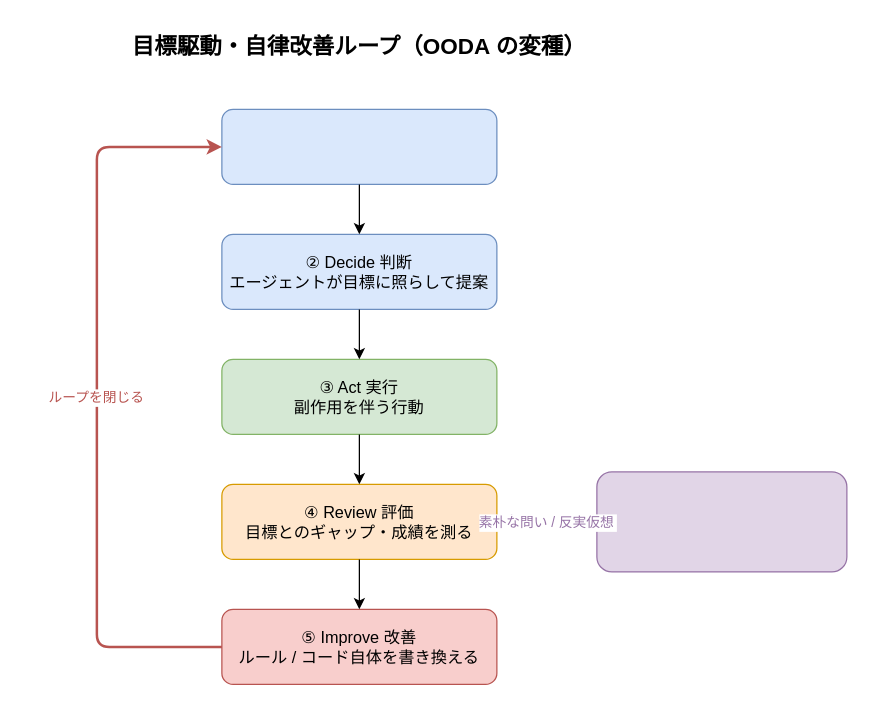
Some shapes in this 869 by 706 pixel diagram are drawn without their labels. The centre of each missing label's shape, as x and y in pixels:
"① Sense 収集 データ取得・状態把握" belongs at (359,146).
"人間 「問い」と「原則判断」で 外から刺す" belongs at (721,521).
